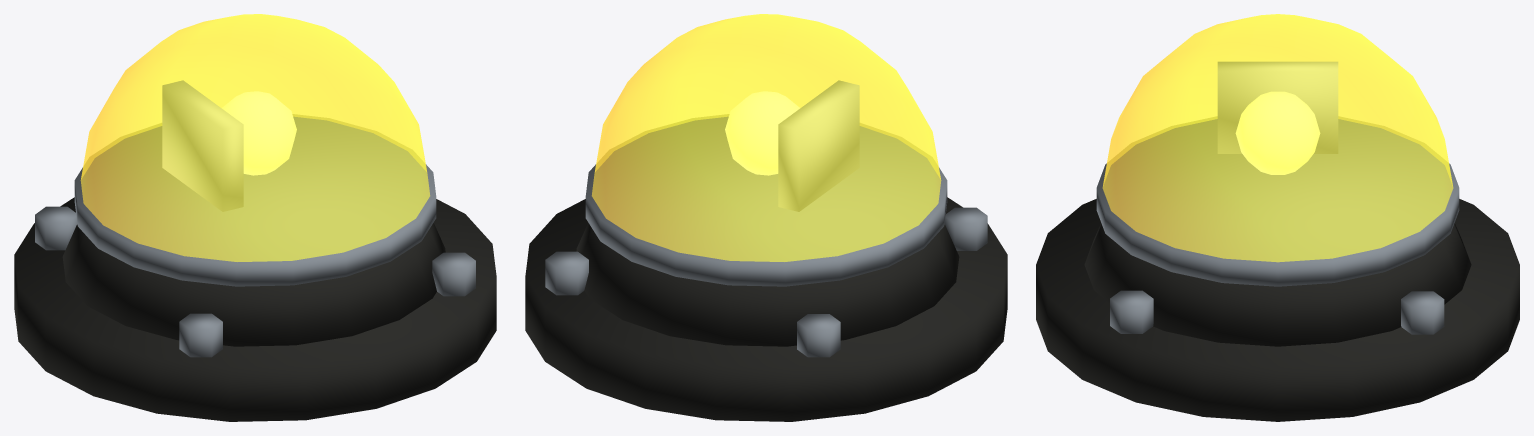
The model's file is zwaailamp.glb.
3 views of the same model, side by side, from view 1: azimuth 30°, elevation 25°; view 2: azimuth 150°, elevation 25°; view 3: azimuth 270°, elevation 25° (orthographic).
Visible parts, largest first — view 1: Lamp_kap, Lamp_voet, Lamp_ring, Draaier, Lamp_bouten, Lamp_bol; view 2: Lamp_kap, Lamp_voet, Lamp_ring, Draaier, Lamp_bouten, Lamp_bol; view 3: Lamp_kap, Lamp_voet, Lamp_ring, Draaier, Lamp_bol, Lamp_bouten.
Boxes of the visible parts, <box> form: Lamp_kap: <box>80,14,429,261</box>; Lamp_voet: <box>14,197,496,421</box>; Lamp_ring: <box>74,114,436,286</box>; Draaier: <box>162,80,243,211</box>; Lamp_bouten: <box>35,206,475,357</box>; Lamp_bol: <box>222,91,296,175</box>; Lamp_kap: <box>592,14,941,261</box>; Lamp_voet: <box>525,197,1007,421</box>; Lamp_ring: <box>585,114,947,286</box>; Draaier: <box>778,80,859,211</box>; Lamp_bouten: <box>545,207,987,357</box>; Lamp_bol: <box>725,91,799,175</box>; Lamp_kap: <box>1102,14,1453,262</box>; Lamp_voet: <box>1036,199,1519,421</box>; Lamp_ring: <box>1096,117,1459,286</box>; Draaier: <box>1218,62,1337,153</box>; Lamp_bol: <box>1236,92,1319,174</box>; Lamp_bouten: <box>1110,290,1444,334</box>.
Bounding box in the file's own units: 0.4 × 0.265 × 0.4.
